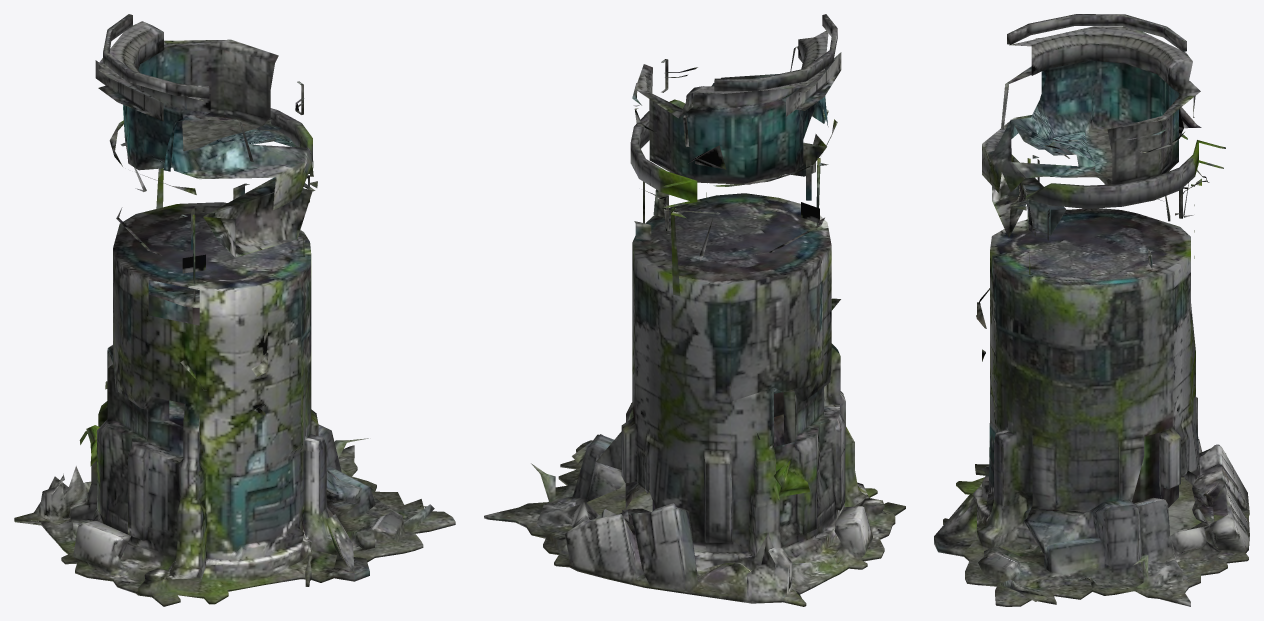
The model's file is obj_001_rtp.glb.
The picture shows the model from 3 angles, left to right: view 1: azimuth 30°, elevation 25°; view 2: azimuth 150°, elevation 25°; view 3: azimuth 270°, elevation 25°; orthographic projection. The views are drawn at different scales.
Parts seen in each view (by area): view 1: tripo_node_fd772e78-5dcf-488e-8ec9-74541ebcf90b; view 2: tripo_node_fd772e78-5dcf-488e-8ec9-74541ebcf90b; view 3: tripo_node_fd772e78-5dcf-488e-8ec9-74541ebcf90b.
Boxes of the visible parts, box(x1,y1,x2,y2) form: tripo_node_fd772e78-5dcf-488e-8ec9-74541ebcf90b: box(14, 14, 455, 606); tripo_node_fd772e78-5dcf-488e-8ec9-74541ebcf90b: box(484, 14, 905, 606); tripo_node_fd772e78-5dcf-488e-8ec9-74541ebcf90b: box(934, 14, 1249, 606).
Size of the model in its own units: 0.7018 by 0.9746 by 0.6046.
Materials: 1 (1 with a texture image).
